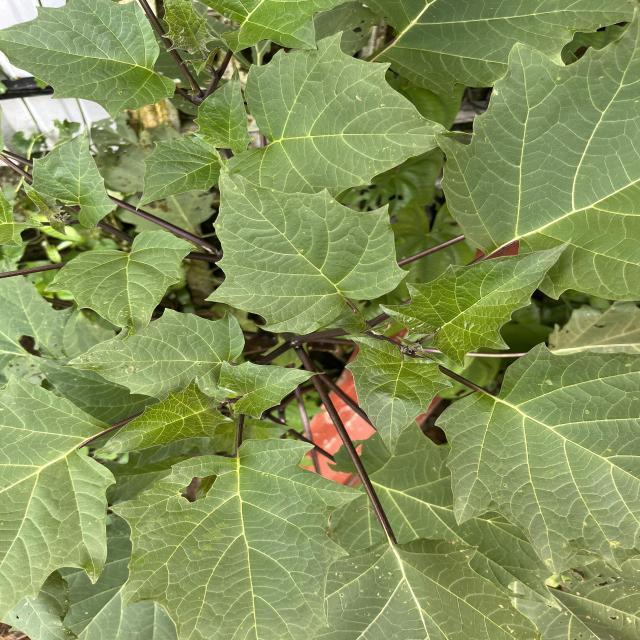Datura metal linn: (223, 29, 476, 200), (200, 146, 412, 338), (376, 233, 574, 374), (42, 226, 202, 346), (342, 333, 457, 461), (90, 372, 236, 459), (134, 134, 222, 215), (190, 64, 263, 160), (215, 358, 328, 420)
